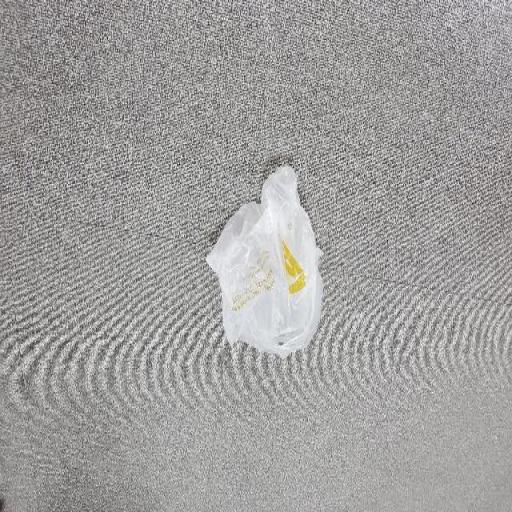plastic-bag: (208, 160, 326, 358)
